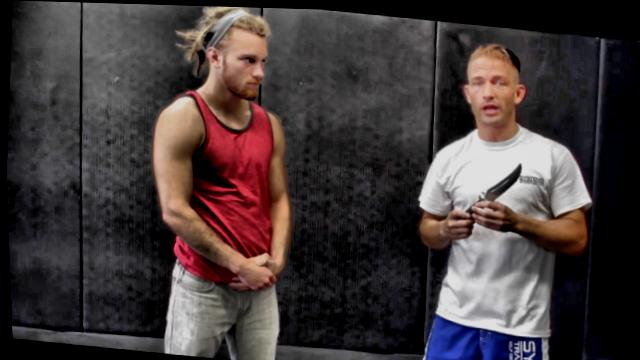knife: (452, 147, 527, 227)
